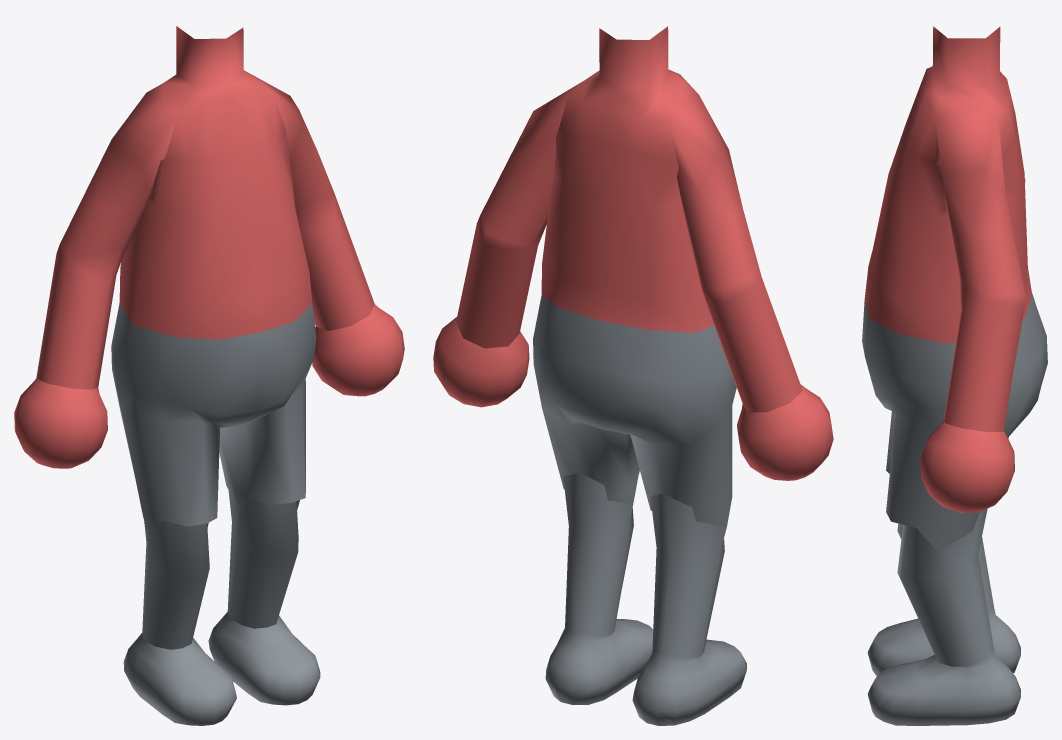
The model's file is avatar_body_static.glb.
3 views of the same model, side by side, from view 1: azimuth 30°, elevation 25°; view 2: azimuth 150°, elevation 25°; view 3: azimuth 270°, elevation 25° (orthographic). The views are drawn at different scales.
Visible parts, largest first — view 1: torso (×2), leg_r, arm_r, leg_l, arm_l; view 2: torso (×2), leg_r, arm_r, leg_l, arm_l; view 3: torso (×2), arm_l, leg_l, leg_r.
Part boxes in pixels (x1,y1,x2,y2): torso (×2): (111,26,316,495); leg_r: (113,376,236,725); arm_r: (14,102,177,468); leg_l: (208,379,320,705); arm_l: (259,79,404,396); torso (×2): (533,26,736,484); leg_r: (630,386,746,725); arm_r: (667,98,833,480); leg_l: (542,402,653,704); arm_l: (433,94,568,407); torso (×2): (862,26,1047,436); arm_l: (920,115,1025,512); leg_l: (867,402,1023,725); leg_r: (867,411,1020,675).
Bounding box in the file's own units: 7.2 × 11.89 × 3.01.
